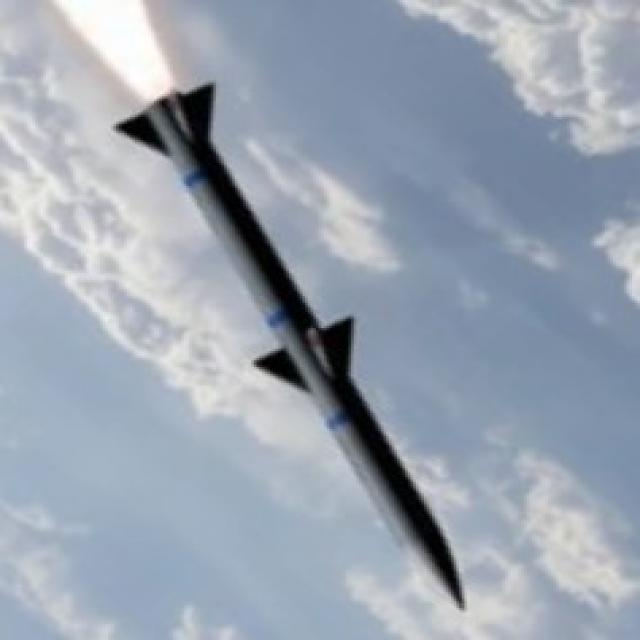missile: (109, 77, 468, 617)
